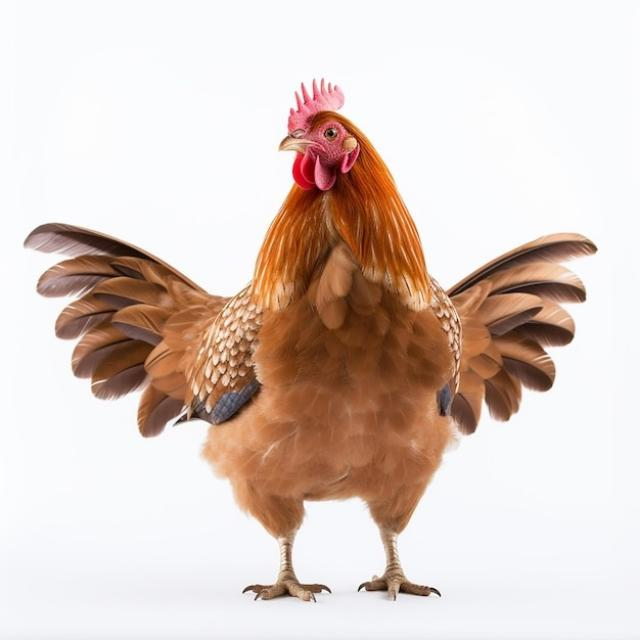Chicken: (24, 79, 597, 602)
